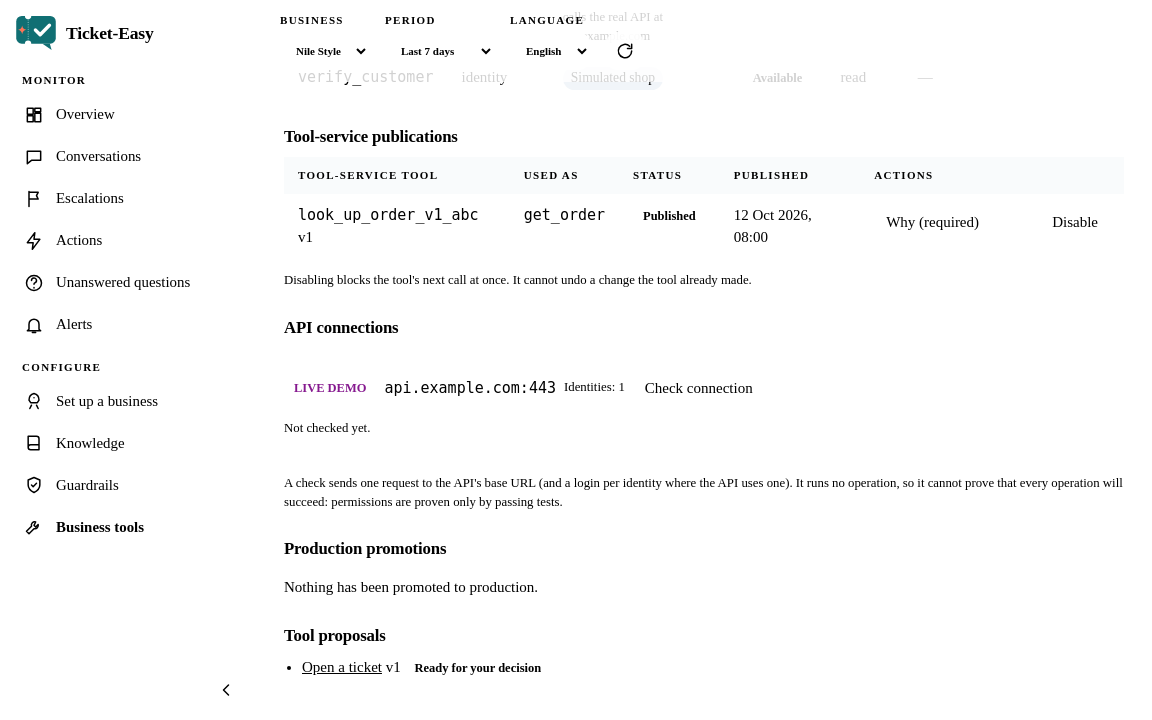
business tools in Live Demo › labels a live tool truthfully and checks a connector through the service
The image size is (1152, 720).
(page scrolled)
Expected: the text "calls the real API at api.example.com" is shown, [563,10,663,43]
Expected: the text "Not checked yet." is shown, [284,421,370,435]
Click the button "Check connection": (699, 388) [633,370,765,406]
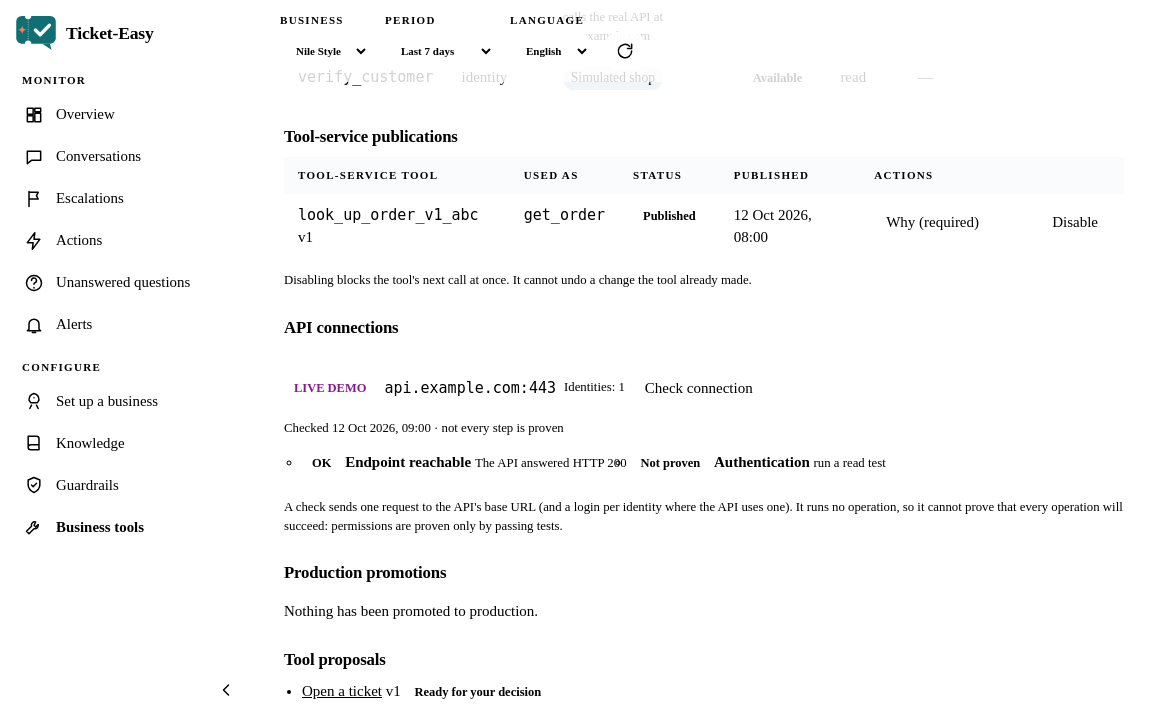
Result: the text "Endpoint reachable" is shown at [345,454,471,470]
Result: the text "Not proven" is shown at [640,456,700,470]
